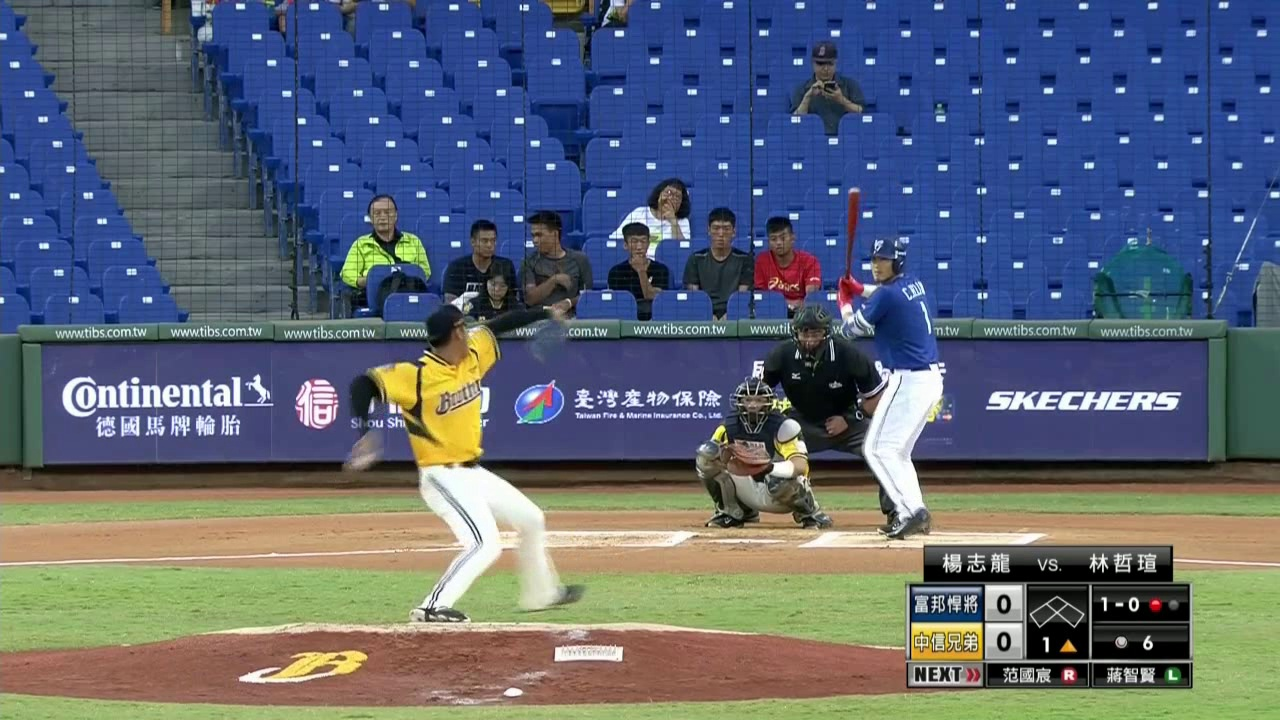ball: (661, 467, 674, 474)
base: (1027, 589, 1086, 631)
bat: (588, 198, 637, 270)
out: (1149, 591, 1186, 616)
score1: (987, 591, 1020, 620)
score2: (991, 628, 1017, 661)
session: (1034, 631, 1088, 659)
strikeball: (1097, 593, 1142, 613)
total: (1109, 626, 1158, 656)
